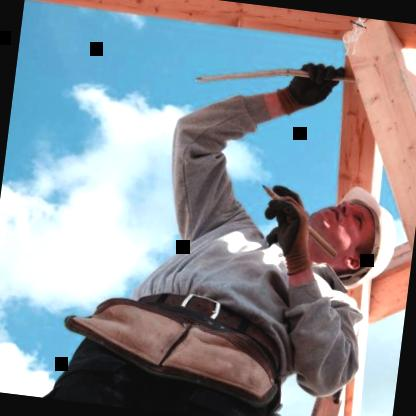helmet: (287, 178, 404, 296)
